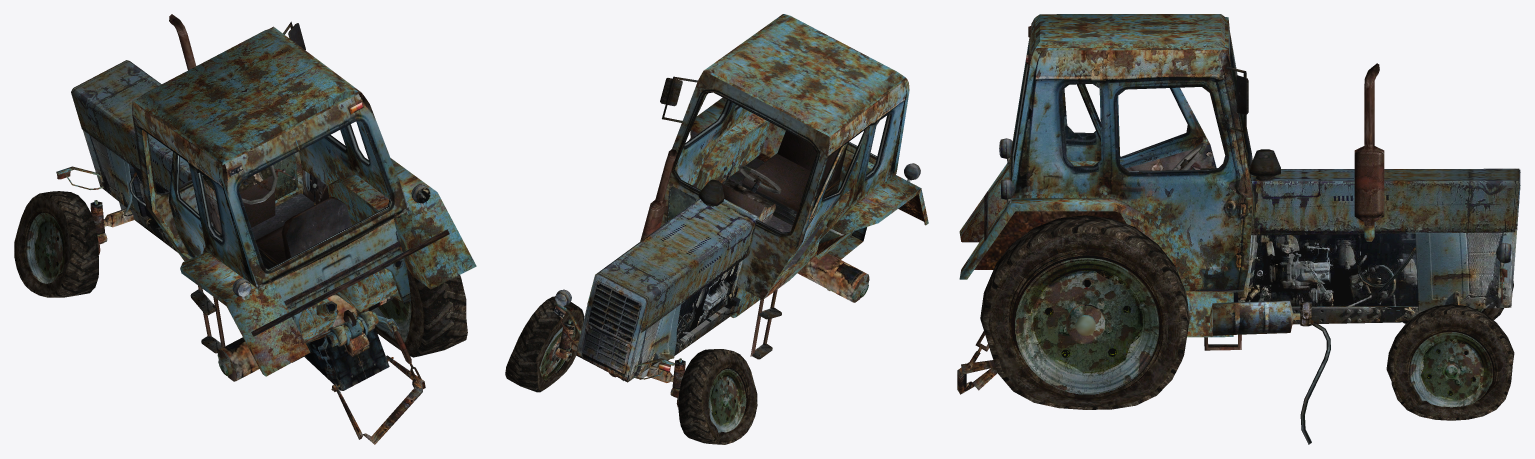
Rendered from tractor_mtz_02.fbx.
3 views of the same model, side by side, from view 1: azimuth 30°, elevation 25°; view 2: azimuth 150°, elevation 25°; view 3: azimuth 270°, elevation 25° (orthographic). The views are drawn at different scales.
Visible parts, largest first — view 1: 1; view 2: 1; view 3: 1.
Boxes of the visible parts, x1=… form: 1: x1=14, y1=14, x2=476, y2=444; 1: x1=505, y1=14, x2=928, y2=444; 1: x1=957, y1=14, x2=1520, y2=444.
Size of the model in its own units: 1.68 by 2.16 by 2.99.
